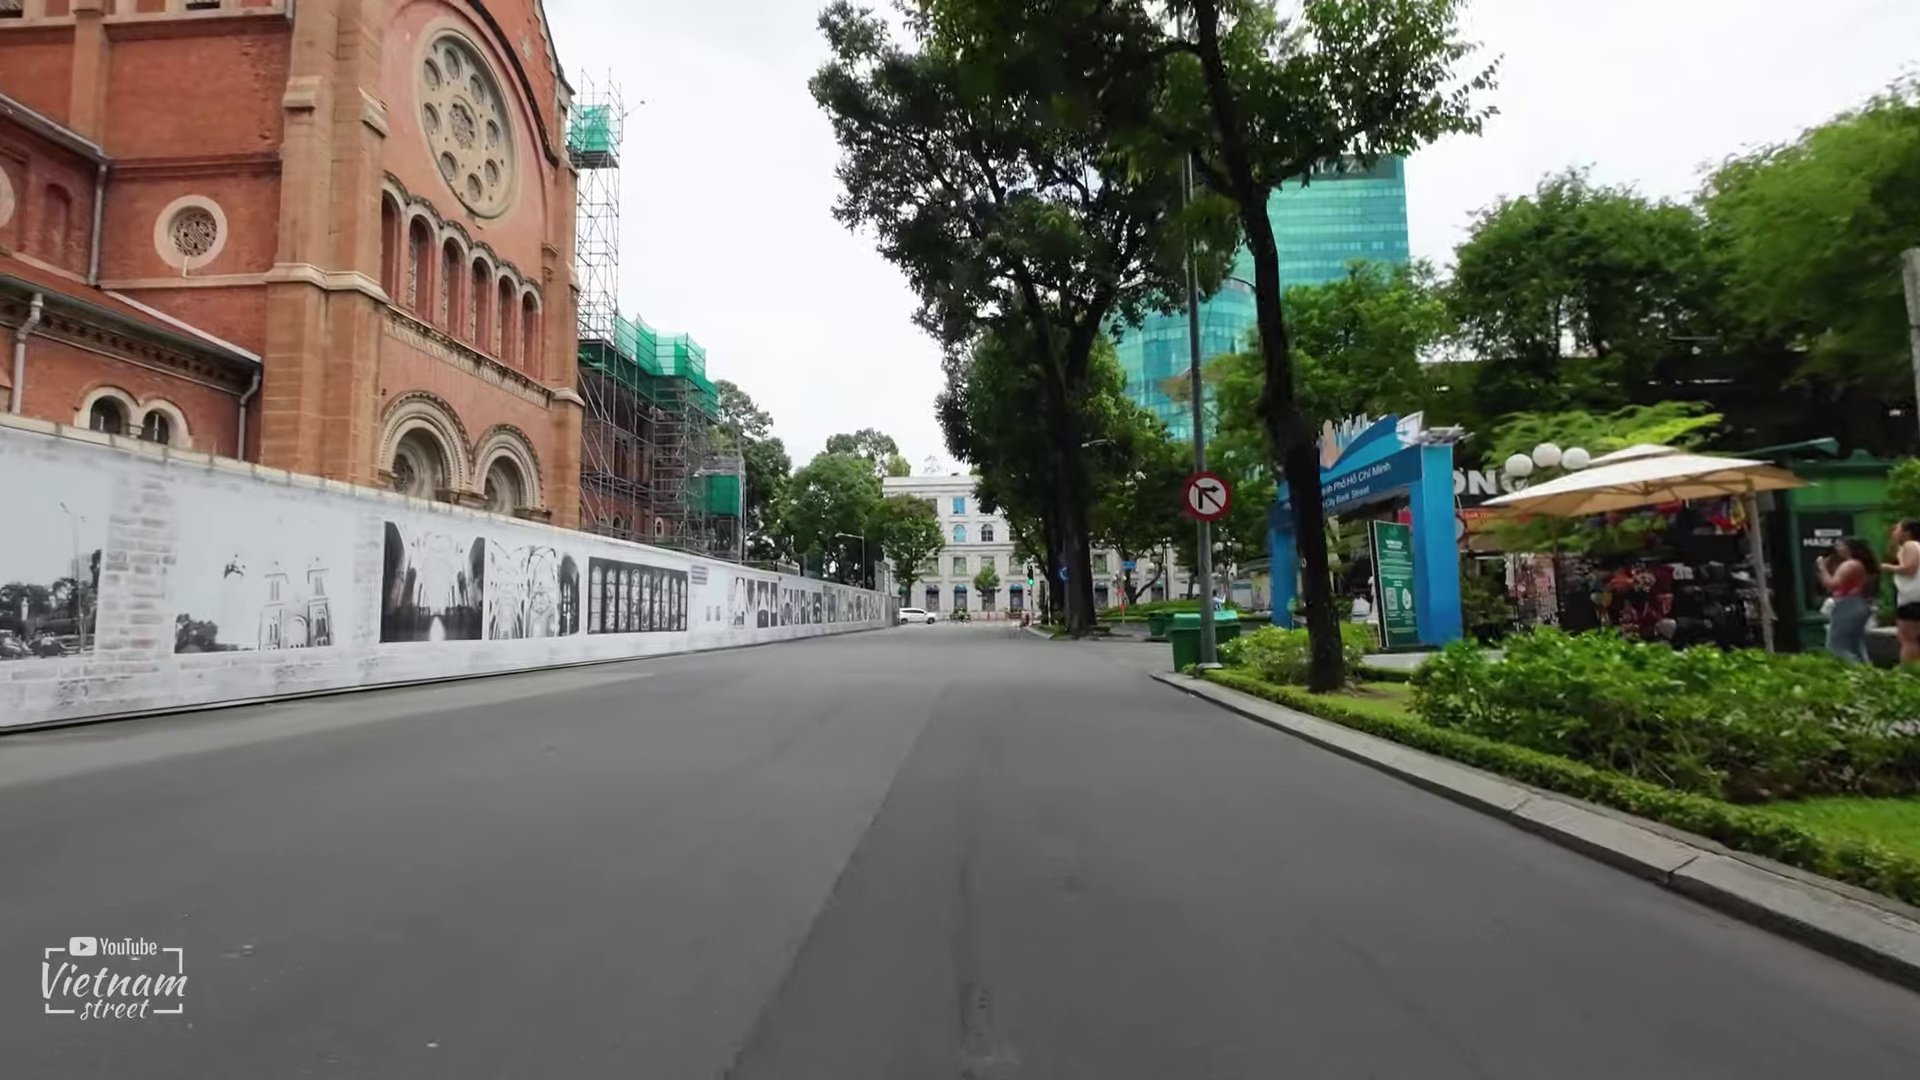cam_re_phai: (1182, 471, 1233, 521)
